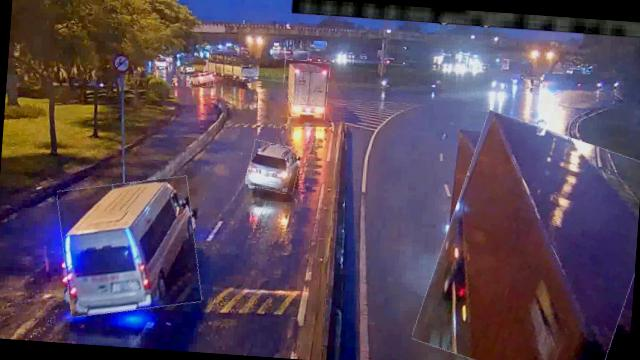Bike: (537, 117, 548, 136)
Bus: (54, 172, 204, 320)
Car: (246, 140, 300, 193), (188, 71, 213, 88)
Truck: (423, 116, 640, 360), (280, 59, 329, 120)
